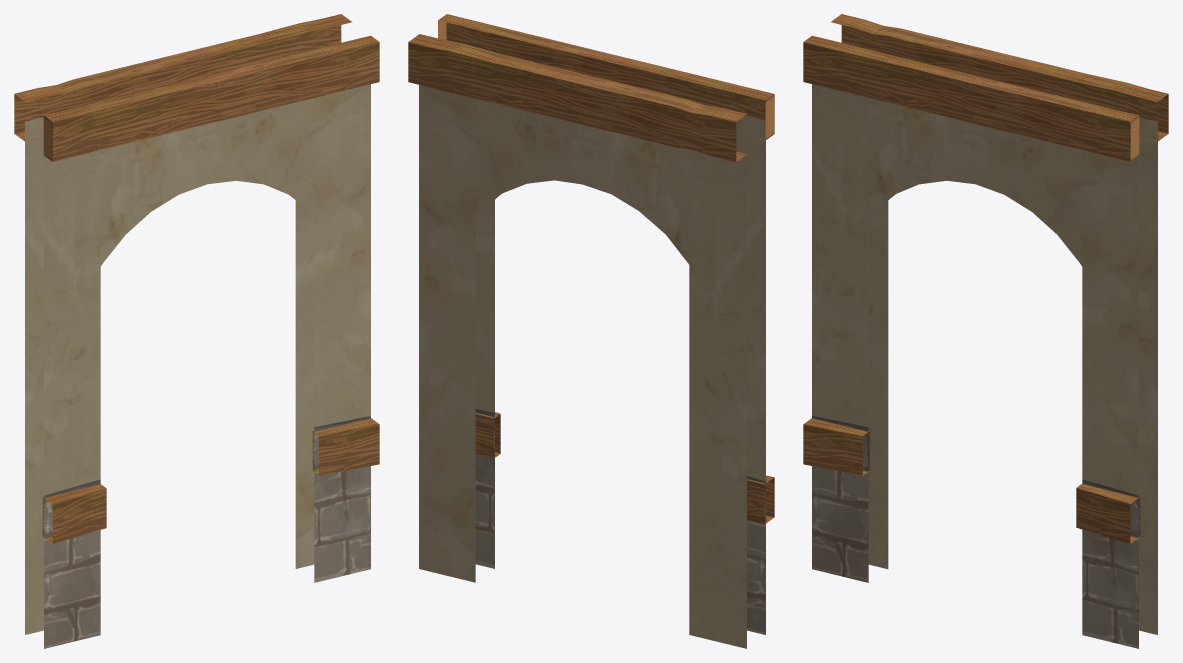
The model's file is Wall_Plaster_Door_Round.gltf.
3 views of the same model, side by side, from view 1: azimuth 30°, elevation 25°; view 2: azimuth 150°, elevation 25°; view 3: azimuth 330°, elevation 25° (orthographic).
Visible parts, largest first — view 1: Wall_Plaster_Door_Round; view 2: Wall_Plaster_Door_Round; view 3: Wall_Plaster_Door_Round.
Part boxes in pixels (left/top/right/bottom): Wall_Plaster_Door_Round: left=14, top=14, right=379, bottom=648; Wall_Plaster_Door_Round: left=408, top=14, right=774, bottom=648; Wall_Plaster_Door_Round: left=803, top=14, right=1168, bottom=648.
Size of the model in its own units: 2 by 3.12 by 0.4064.
Materials: 3 (3 with a texture image).
